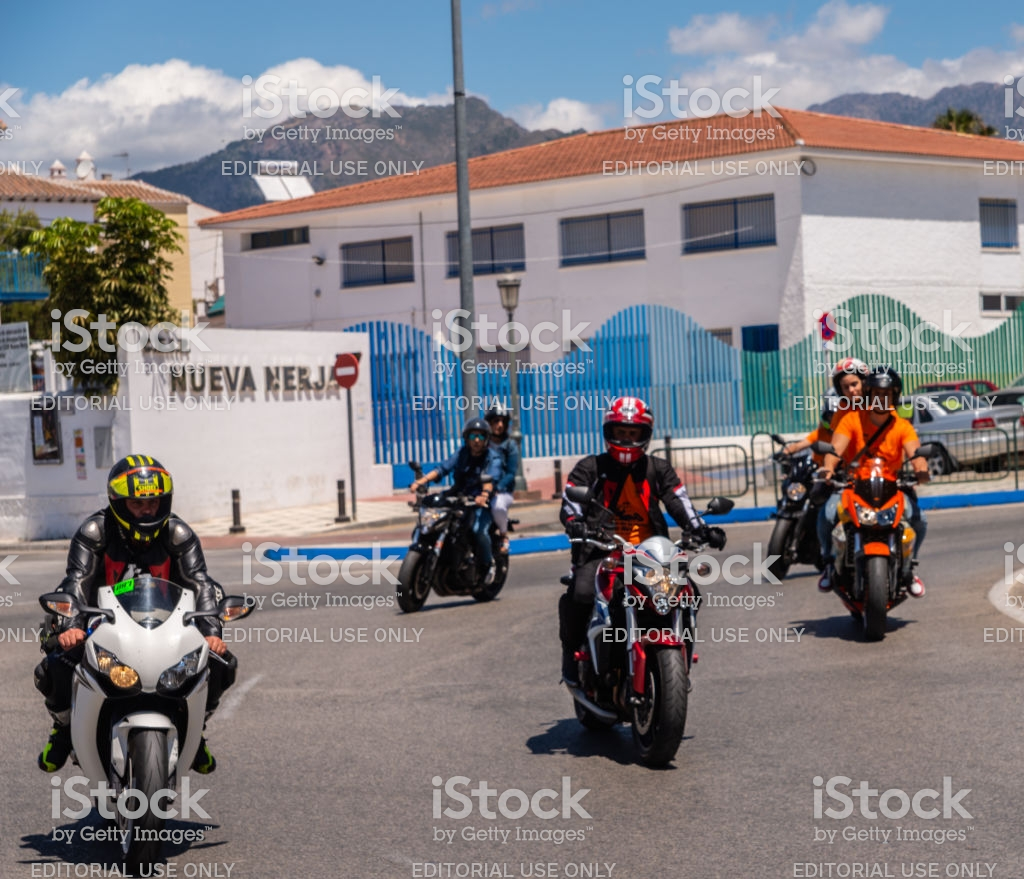helmet: (106, 459, 175, 540), (600, 400, 657, 467)
